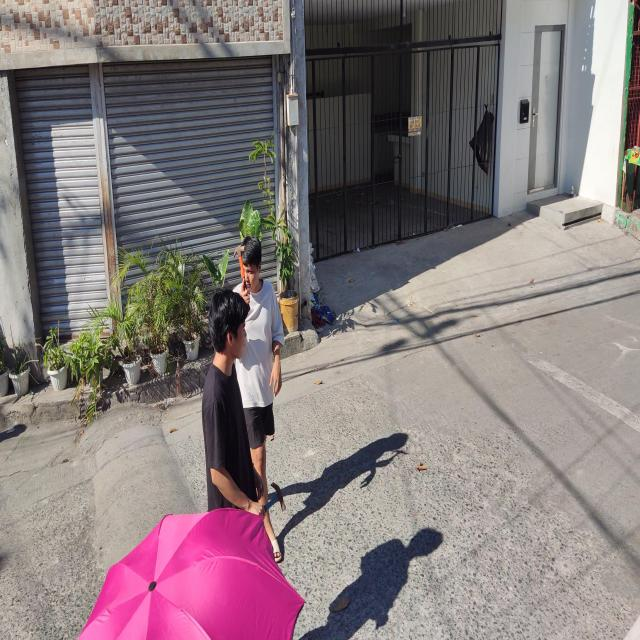hammer: (233, 245, 250, 312), (264, 482, 286, 512)
